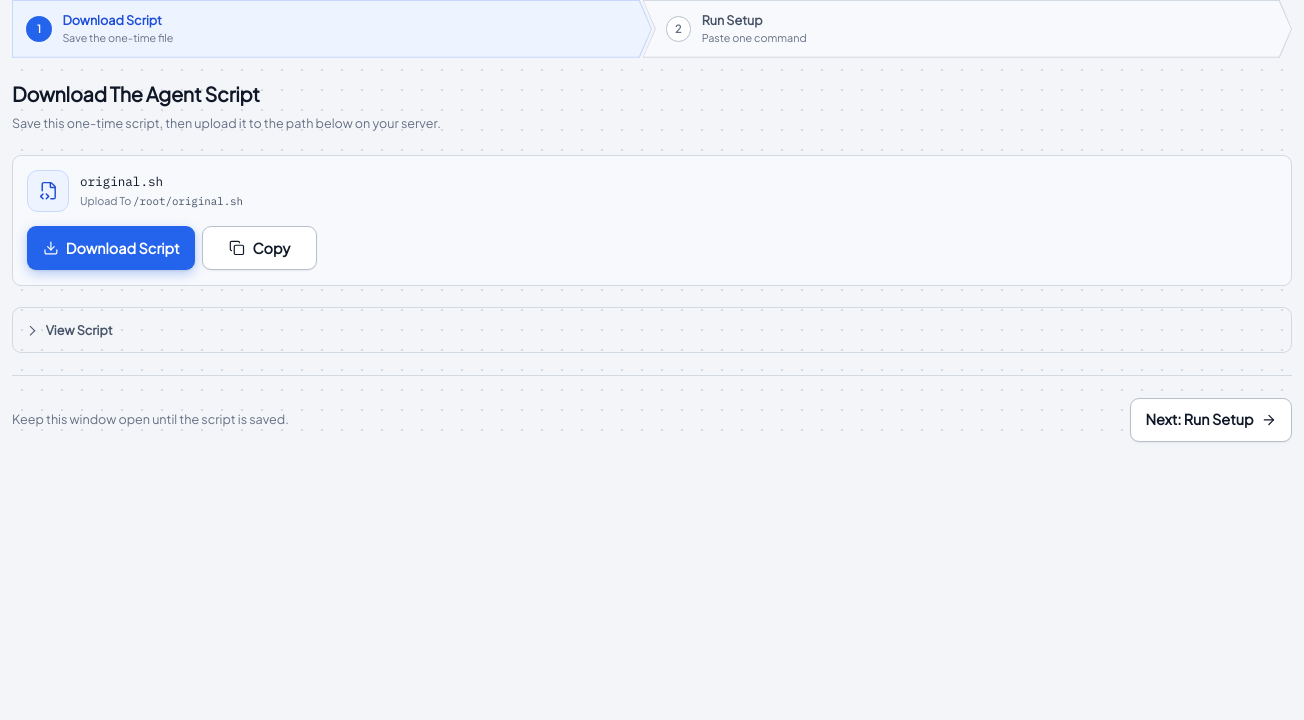
Test: preserves success feedback and the exact copied setup command with short labels
Click the button "Next: Run Setup". click: (1211, 420)
box: [1130,398,1292,442]
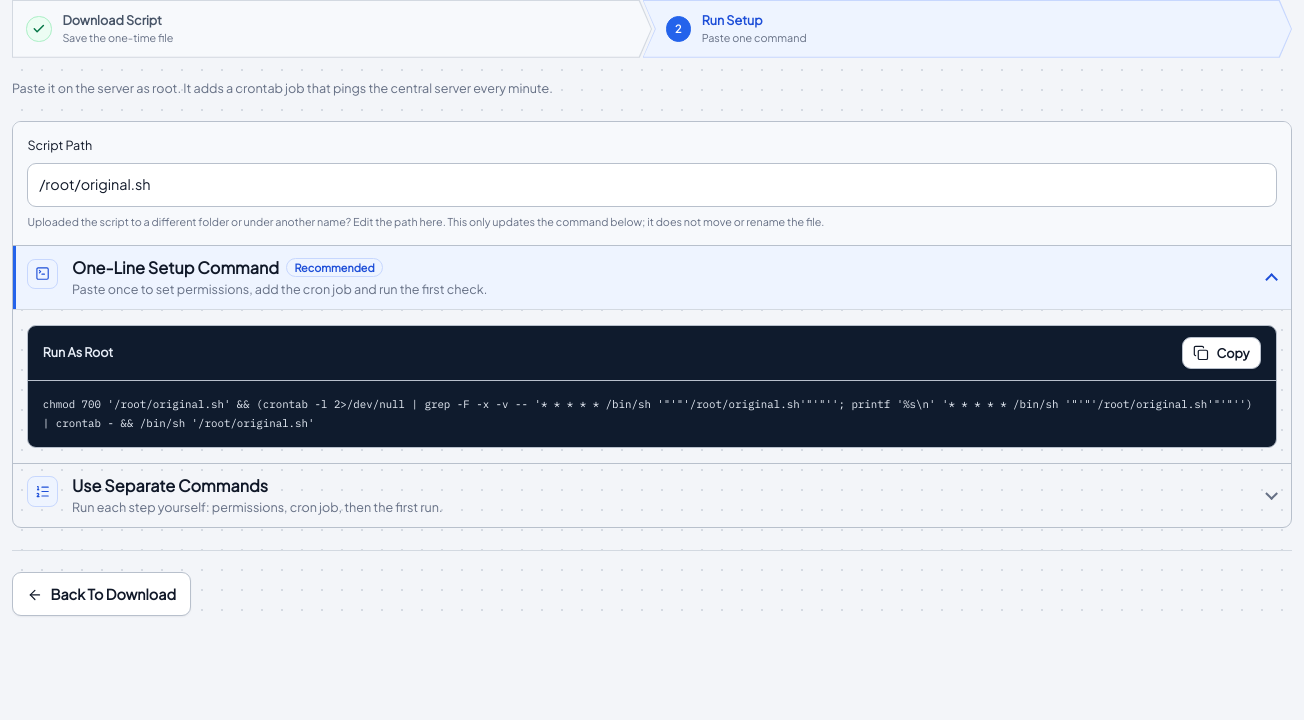
Click the button with aria-label "Copy Setup Command". click: (1221, 353)
box: [1182,337,1261,369]
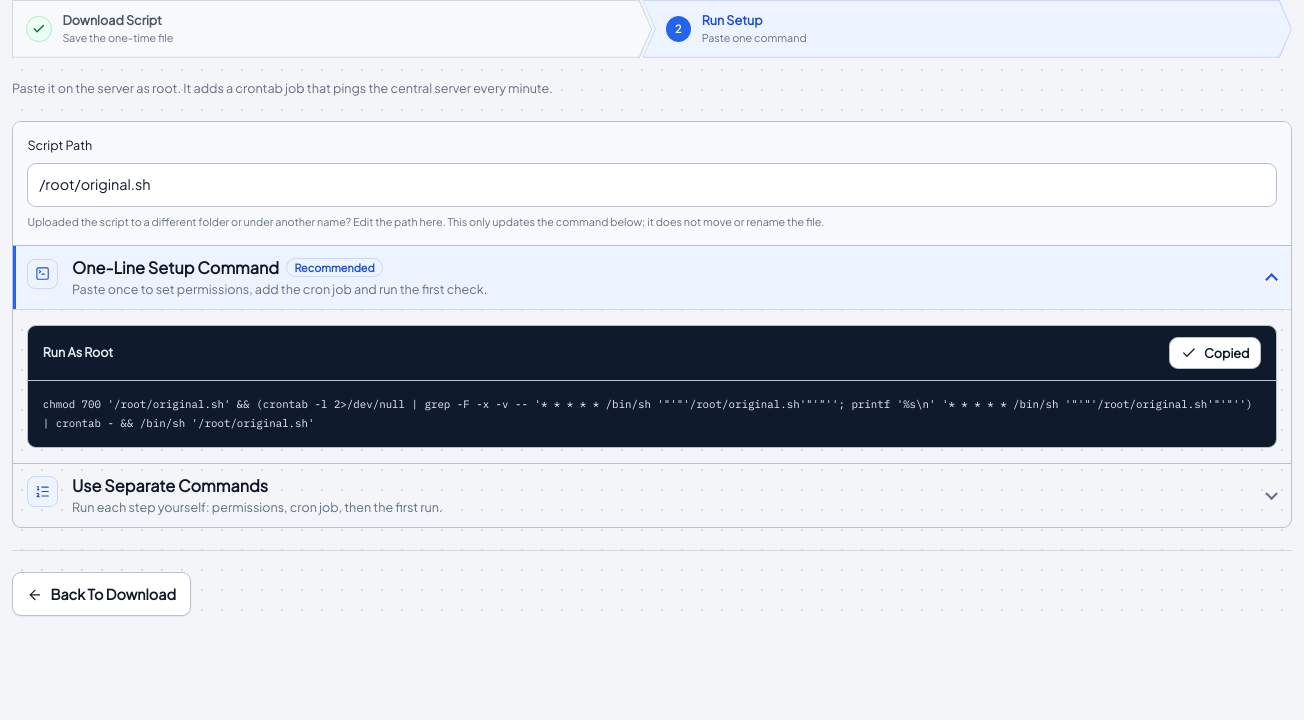
Now the button "Copied" is shown, box [1169,337,1261,369]
